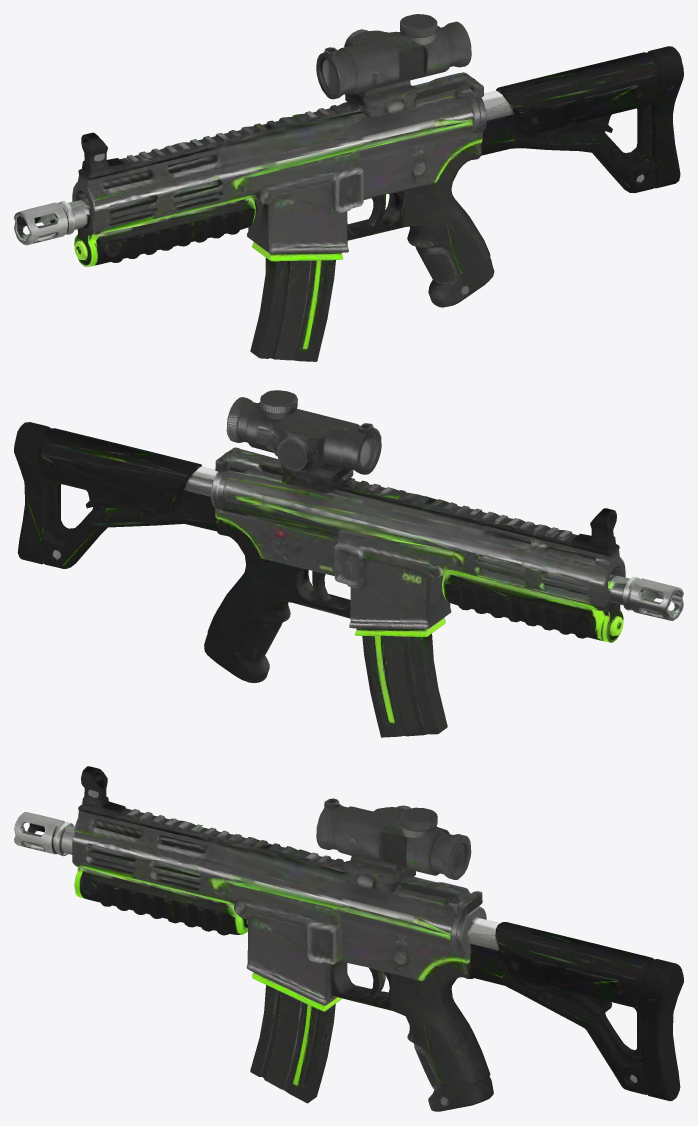
Rendered from gun_burst.glb.
3 views of the same model, one above another, from view 1: azimuth 30°, elevation 25°; view 2: azimuth 150°, elevation 25°; view 3: azimuth 330°, elevation 25° (orthographic).
Parts seen in each view (by area): view 1: Mesh_0; view 2: Mesh_0; view 3: Mesh_0.
Part boxes in pixels (left/top/right/bottom): Mesh_0: left=14, top=14, right=683, bottom=361; Mesh_0: left=14, top=390, right=683, bottom=737; Mesh_0: left=14, top=766, right=683, bottom=1111.
Bounding box in the file's own units: 1.9 × 0.8636 × 0.1994.
Materials: 1 (1 with a texture image).
